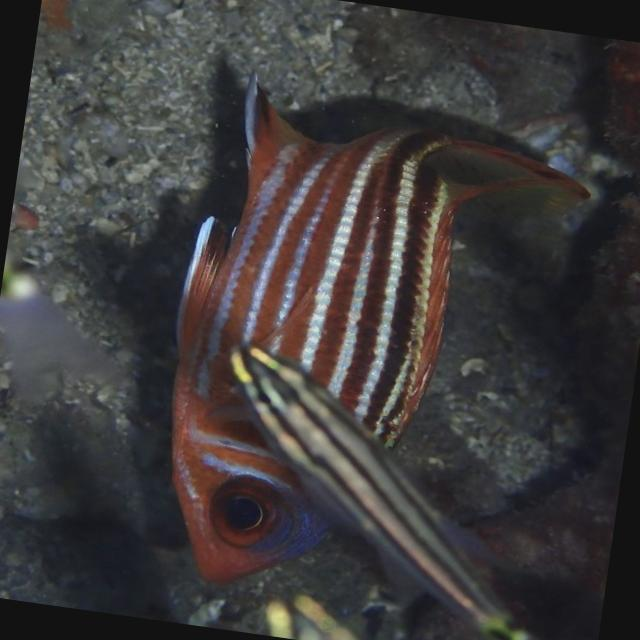Asker Baligi: (137, 62, 606, 640)
